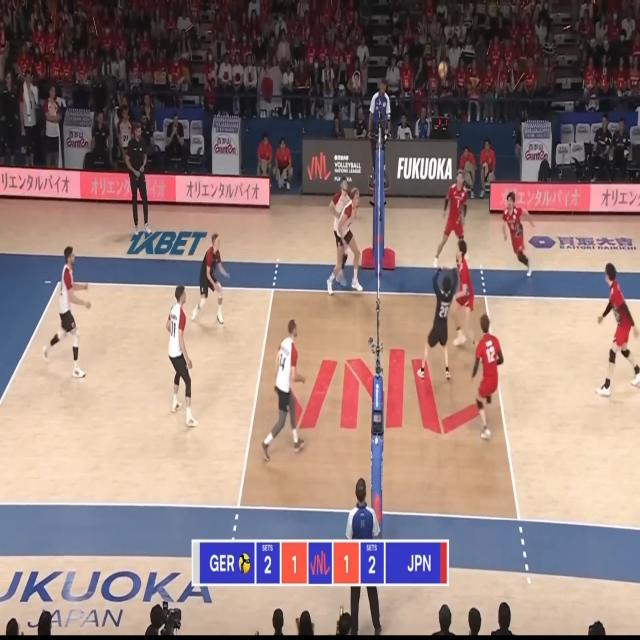ball: (438, 61, 448, 80)
